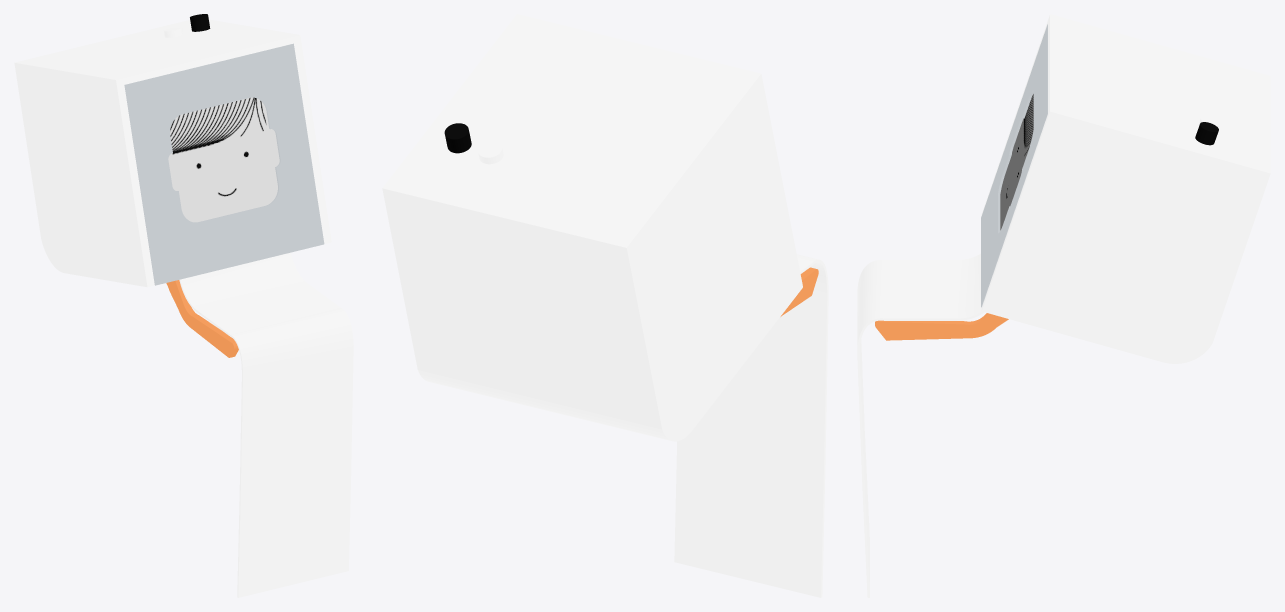
3 views of the same model, side by side, from view 1: azimuth 30°, elevation 25°; view 2: azimuth 150°, elevation 25°; view 3: azimuth 270°, elevation 25° (orthographic). The views are drawn at different scales.
Visible parts, largest first — view 1: Receipt, Body, Plate, Face, Leg_2; view 2: Body, Receipt, Button, Leg_2; view 3: Body, Receipt, Plate, Leg, Face.
Part boxes in pixels (left/top/right/bottom): Receipt: left=179, top=252, right=353, bottom=597; Body: left=14, top=19, right=331, bottom=287; Plate: left=124, top=43, right=324, bottom=285; Face: left=168, top=97, right=279, bottom=222; Leg_2: left=166, top=280, right=238, bottom=357; Body: left=382, top=14, right=802, bottom=441; Receipt: left=674, top=254, right=828, bottom=597; Button: left=444, top=123, right=471, bottom=153; Leg_2: left=780, top=267, right=818, bottom=316; Body: left=981, top=14, right=1270, bottom=363; Receipt: left=857, top=253, right=984, bottom=597; Plate: left=981, top=24, right=1047, bottom=307; Leg: left=875, top=313, right=1008, bottom=340; Face: left=1000, top=94, right=1033, bottom=230.
Bounding box in the file's own units: 3.54 × 8.55 × 6.34.
Materials: 7 (1 with a texture image).
